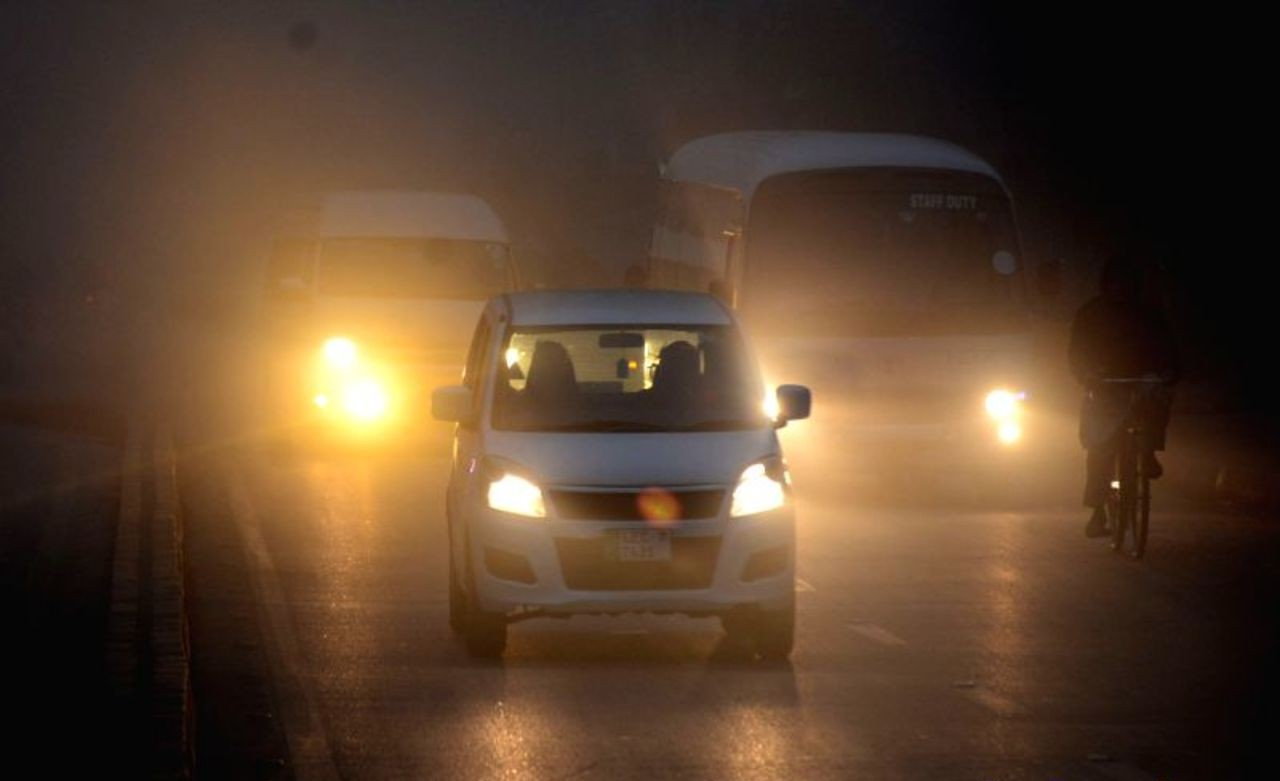bicycle: (1072, 373, 1172, 560)
bus: (652, 125, 1025, 502), (252, 188, 518, 447)
car: (433, 285, 812, 665)
person: (1068, 246, 1164, 536)
